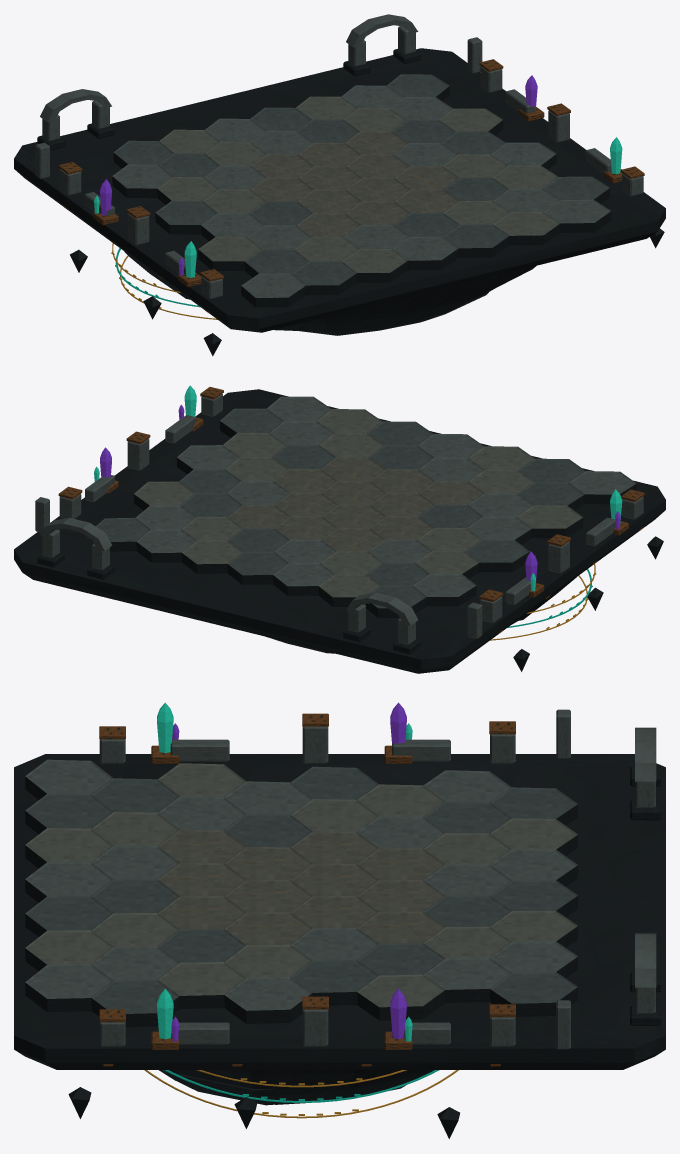
File: floating-ruins-p1.glb
3 renders of one model, top to bottom at view 1: azimuth 30°, elevation 25°; view 2: azimuth 150°, elevation 25°; view 3: azimuth 270°, elevation 25°, orthographic. The views are drawn at different scales.
Parts seen in each view (by area): view 1: SM_Island_Crown, SM_Island_StratumA, SM_Island_StratumB, SM_Hex_R00_C00, SM_Hex_R00_C03, SM_Hex_R00_C05, SM_Hex_R00_C04, SM_Hex_R00_C06, SM_Hex_R00_C02, SM_Hex_R00_C01, SM_Hex_R02_C00, SM_Hex_R04_C00 (+52 smaller); view 2: SM_Island_Crown, SM_Hex_R02_C00, SM_Hex_R04_C00, SM_Hex_R06_C00, SM_Hex_R07_C04, SM_Hex_R07_C05, SM_Hex_R07_C03, SM_Hex_R07_C02, SM_Hex_R00_C00, SM_Hex_R07_C01, SM_Hex_R01_C06, SM_Hex_R01_C00 (+55 smaller); view 3: SM_Island_Crown, SM_Hex_R03_C06, SM_Hex_R00_C06, SM_Island_StratumA, SM_Hex_R07_C06, SM_Hex_R05_C06, SM_Island_StratumB, SM_Hex_R02_C06, SM_Hex_R06_C06, SM_Hex_R01_C06, SM_Hex_R04_C06, SM_Hex_R00_C03 (+64 smaller).
Part boxes in pixels (left/top/right/bottom): SM_Island_Crown: left=14, top=48, right=665, bottom=332; SM_Island_StratumA: left=124, top=251, right=536, bottom=319; SM_Island_StratumB: left=274, top=289, right=493, bottom=332; SM_Hex_R00_C00: left=241, top=273, right=306, bottom=307; SM_Hex_R00_C03: left=392, top=236, right=458, bottom=270; SM_Hex_R00_C05: left=493, top=212, right=560, bottom=245; SM_Hex_R00_C04: left=443, top=224, right=509, bottom=257; SM_Hex_R00_C06: left=544, top=199, right=611, bottom=232; SM_Hex_R00_C02: left=342, top=249, right=407, bottom=282; SM_Hex_R00_C01: left=292, top=261, right=357, bottom=294; SM_Hex_R02_C00: left=198, top=237, right=261, bottom=270; SM_Hex_R04_C00: left=155, top=200, right=217, bottom=234; SM_Island_Crown: left=14, top=389, right=665, bottom=673; SM_Hex_R02_C00: left=517, top=505, right=583, bottom=538; SM_Hex_R04_C00: left=465, top=539, right=529, bottom=572; SM_Hex_R06_C00: left=413, top=574, right=476, bottom=606; SM_Hex_R07_C04: left=182, top=540, right=242, bottom=573; SM_Hex_R07_C05: left=136, top=529, right=196, bottom=562; SM_Hex_R07_C03: left=227, top=551, right=288, bottom=584; SM_Hex_R07_C02: left=273, top=563, right=334, bottom=595; SM_Hex_R00_C00: left=569, top=471, right=636, bottom=504; SM_Hex_R07_C01: left=318, top=574, right=380, bottom=606; SM_Hex_R01_C06: left=219, top=408, right=283, bottom=437; SM_Hex_R01_C00: left=518, top=482, right=584, bottom=510; SM_Island_Crown: left=14, top=754, right=665, bottom=1069; SM_Hex_R03_C06: left=224, top=977, right=312, bottom=1023; SM_Hex_R00_C06: left=25, top=964, right=113, bottom=1012; SM_Island_StratumA: left=169, top=1070, right=425, bottom=1088; SM_Hex_R07_C06: left=490, top=972, right=578, bottom=1016; SM_Hex_R05_C06: left=357, top=974, right=445, bottom=1020; SM_Island_StratumB: left=159, top=1070, right=434, bottom=1105; SM_Hex_R02_C06: left=158, top=962, right=245, bottom=1009; SM_Hex_R06_C06: left=423, top=958, right=511, bottom=1002; SM_Hex_R01_C06: left=91, top=979, right=179, bottom=1027; SM_Hex_R04_C06: left=291, top=960, right=378, bottom=1005; SM_Hex_R00_C03: left=25, top=862, right=113, bottom=902.
Bounding box in the file's own units: 7.86 × 2.64 × 7.07.
7 materials, 7 textured.
